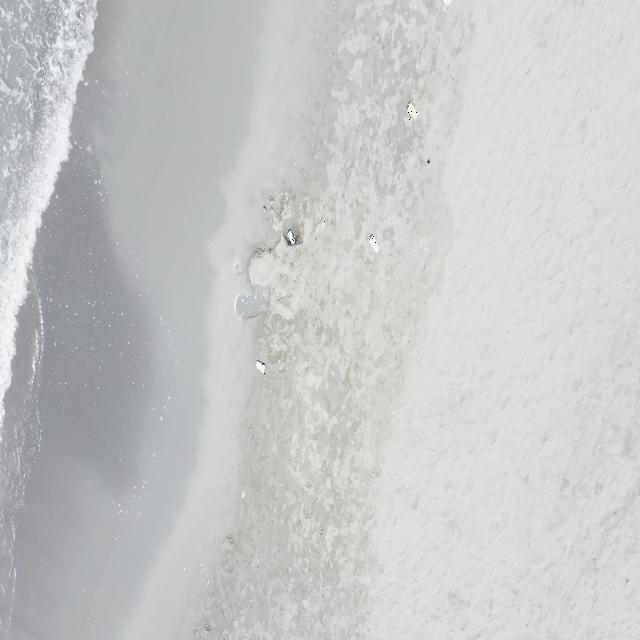takeaway-cup: (369, 233, 380, 253), (408, 101, 418, 120), (256, 359, 266, 374), (287, 229, 295, 246), (315, 219, 325, 232)
